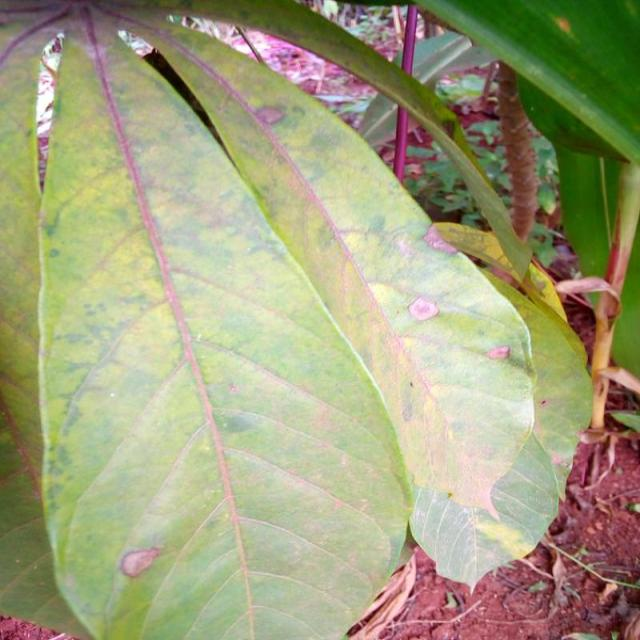cassava leaf: (11, 5, 573, 638)
